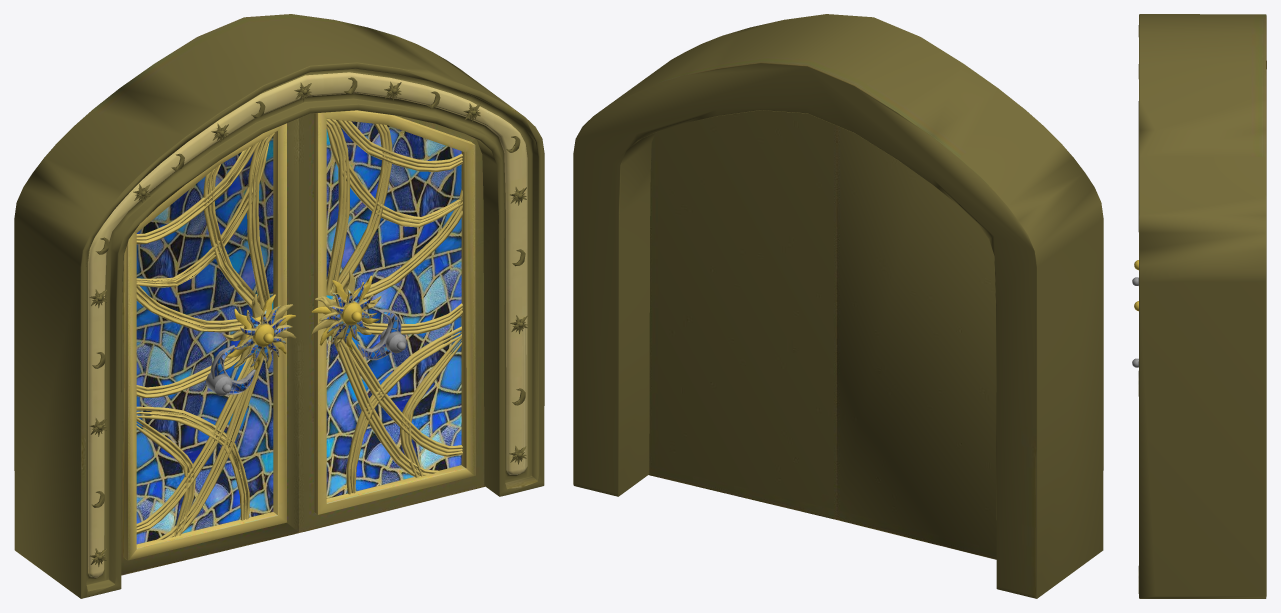
File: doorClosed_lowPolyCompressed.glb
3 renders of one model, left to right at view 1: azimuth 30°, elevation 25°; view 2: azimuth 150°, elevation 25°; view 3: azimuth 270°, elevation 25°, orthographic. The views are drawn at different scales.
Visible parts, largest first — view 1: polySurface15.002; view 2: polySurface15.002; view 3: polySurface15.002.
Part boxes in pixels (x1,y1,x2,y2): polySurface15.002: [14, 14, 544, 598]; polySurface15.002: [573, 14, 1103, 598]; polySurface15.002: [1132, 14, 1266, 598].
Size of the model in its own units: 0.2662 by 0.2623 by 0.0699.
Materials: 5 (5 with a texture image).
